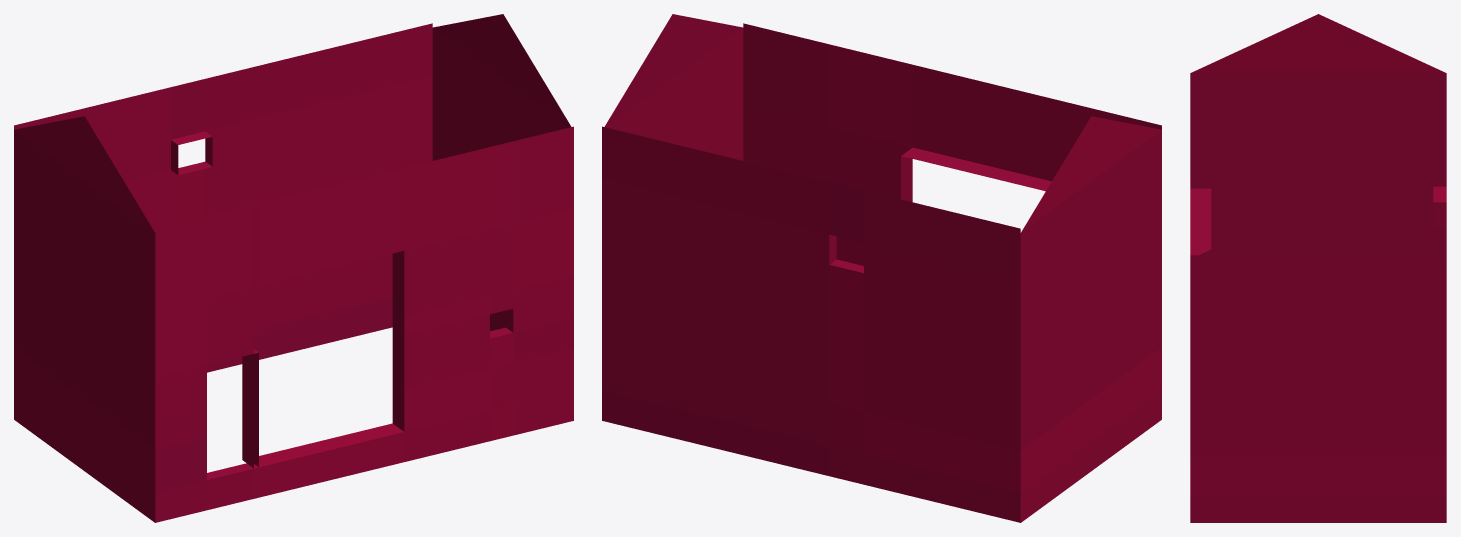
File: SM_Bld_002_Masonry.glb
The picture shows the model from 3 angles, left to right: view 1: azimuth 30°, elevation 25°; view 2: azimuth 150°, elevation 25°; view 3: azimuth 270°, elevation 25°; orthographic projection. The views are drawn at different scales.
Visible parts, largest first — view 1: SM_Bld_002_Masonry; view 2: SM_Bld_002_Masonry; view 3: SM_Bld_002_Masonry.
Boxes of the visible parts, box(x1,y1,x2,y2) form: SM_Bld_002_Masonry: box(14, 14, 573, 522); SM_Bld_002_Masonry: box(602, 14, 1161, 522); SM_Bld_002_Masonry: box(1190, 14, 1446, 522).
Size of the model in its own units: 7.25 by 5.88 by 4.23.
